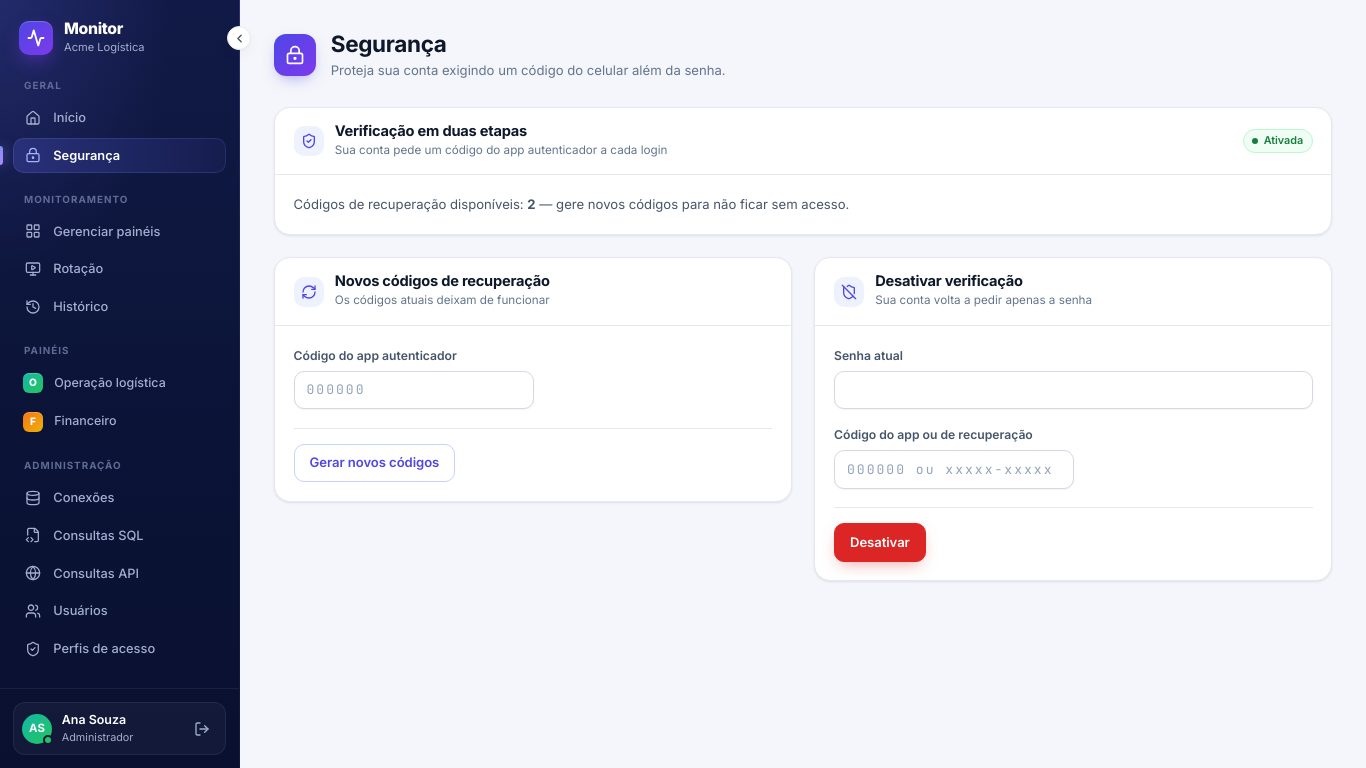
Test case: Segurança — verificação em duas etapas › gera novos códigos e desativa a verificação
Expected: the text "gere novos códigos para não ficar sem acesso" is shown, [536, 196, 849, 212]
Type "654321" into the field labelled "Código do app autenticador" at [414, 390], box [294, 371, 534, 409]
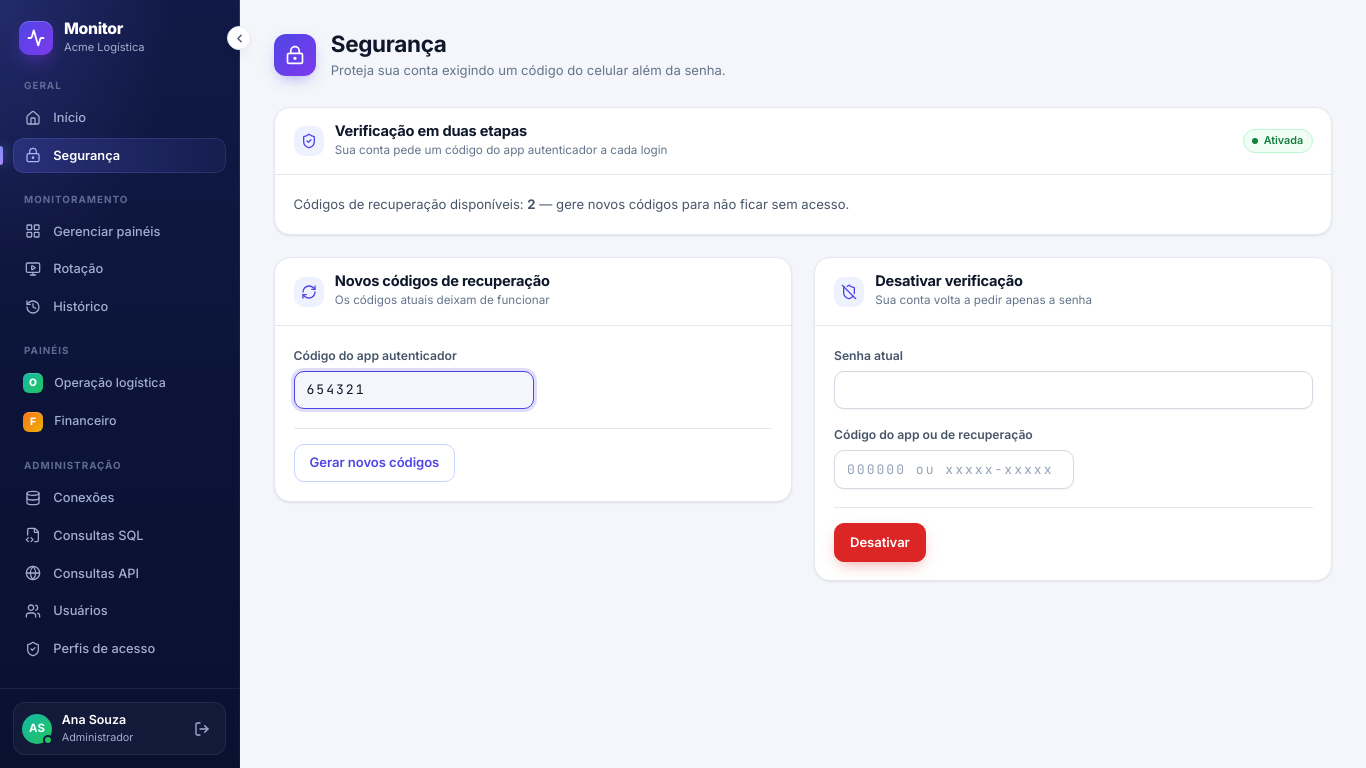
Click the button "Gerar novos códigos" at [374, 463], box [294, 444, 455, 482]
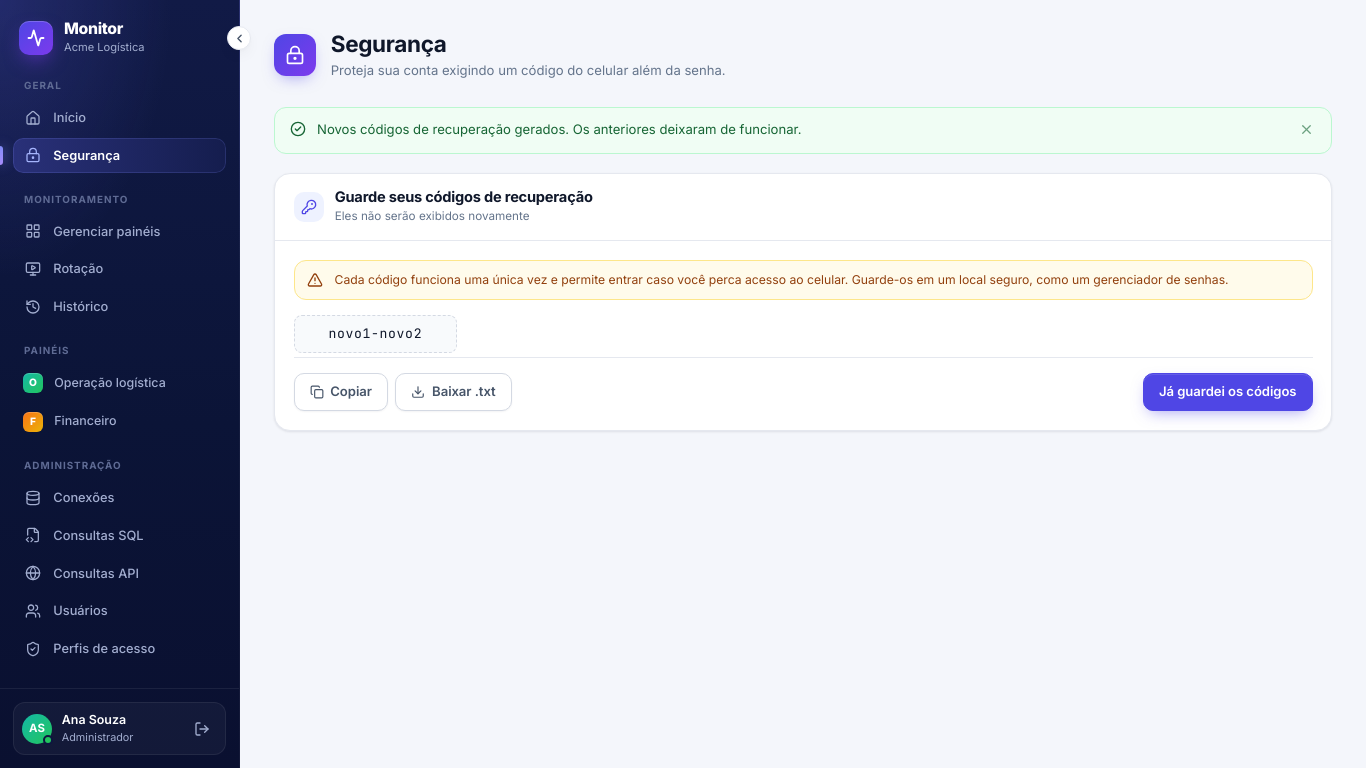
Expected: the list named "Códigos de recuperação" reads "novo1-novo2", [328, 325, 422, 342]
Expected: the text "Os anteriores deixaram de funcionar" is shown, [317, 121, 802, 137]
Click the button "Já guardei os códigos" at [1228, 392], box [1143, 373, 1312, 411]
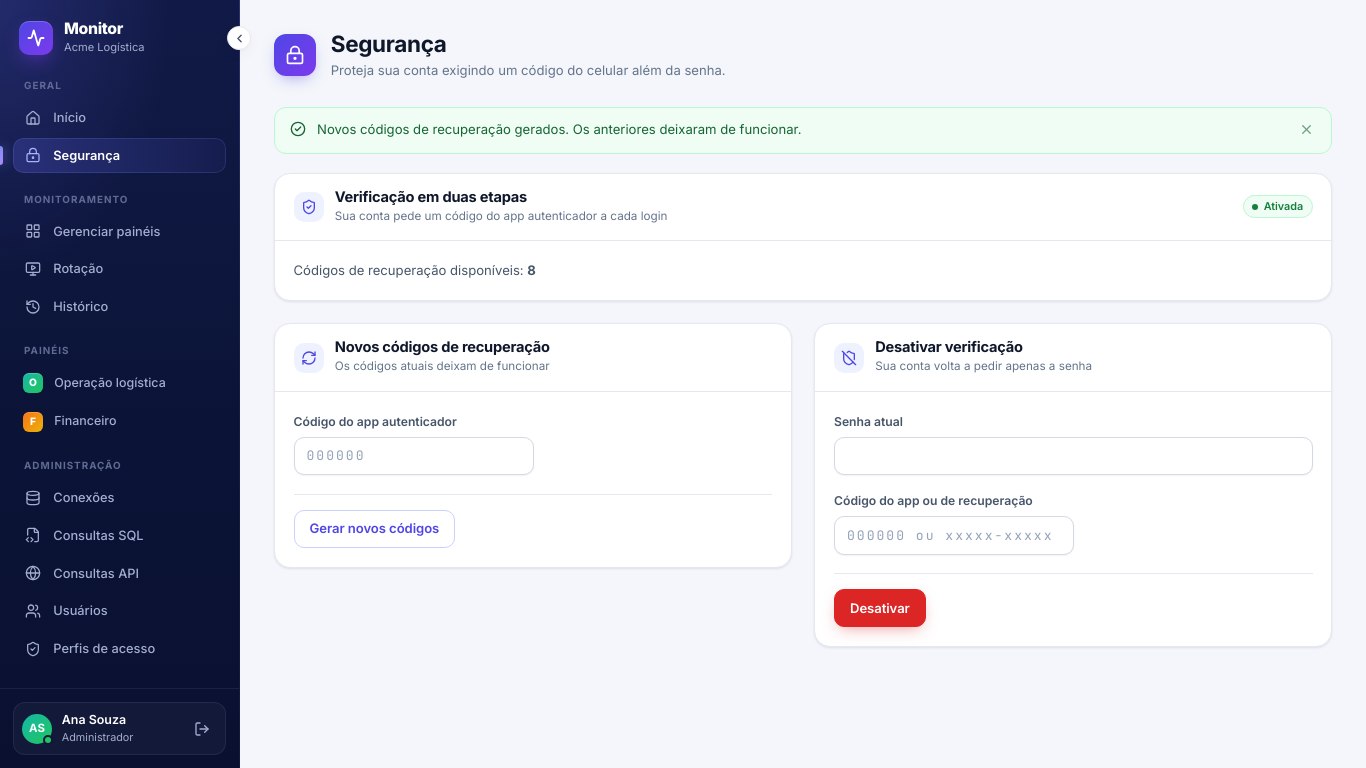
Type "segredo1" into the password field labelled "Senha atual" at [1073, 456], box [834, 437, 1312, 475]
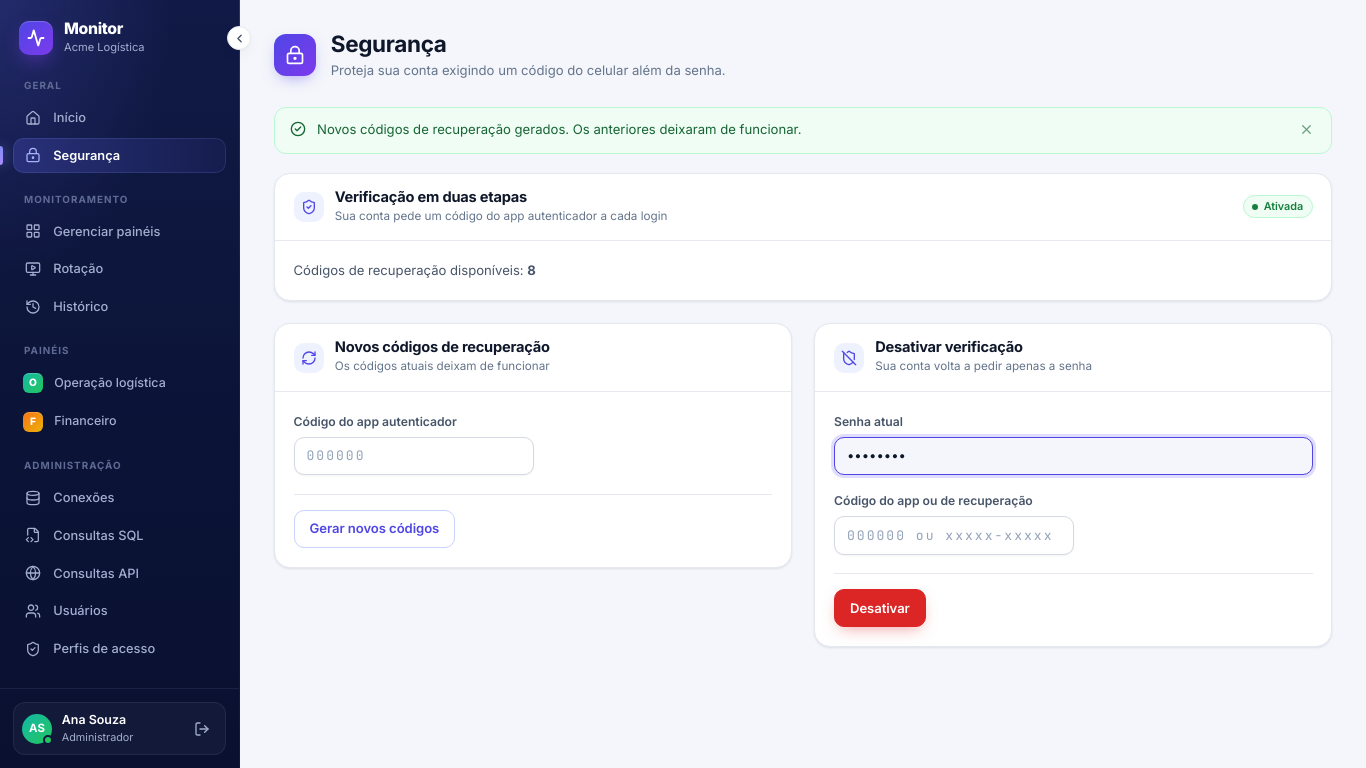
Type "abcde-fghij" into the field labelled "Código do app ou de recuperação" at [954, 535], box [834, 516, 1074, 554]
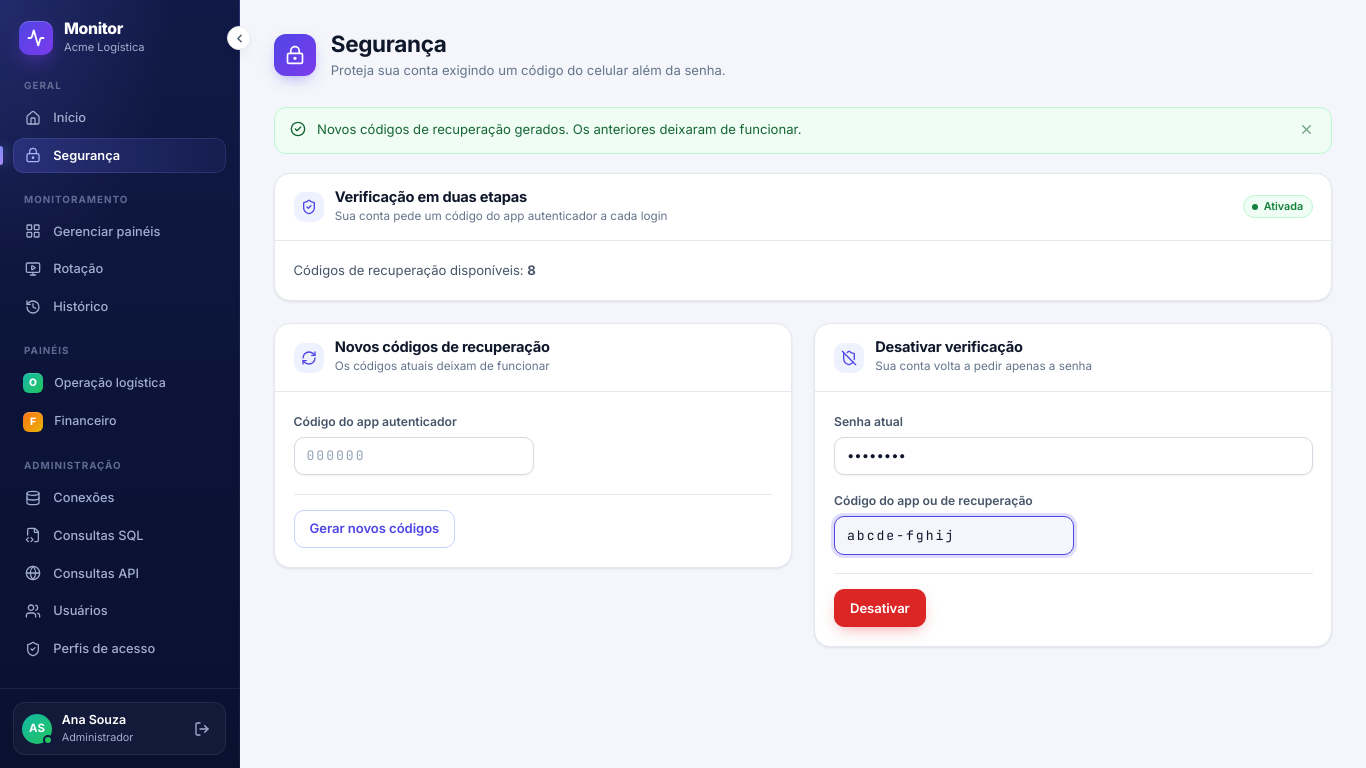
Click the button "Desativar" at [880, 608], box [834, 589, 926, 628]
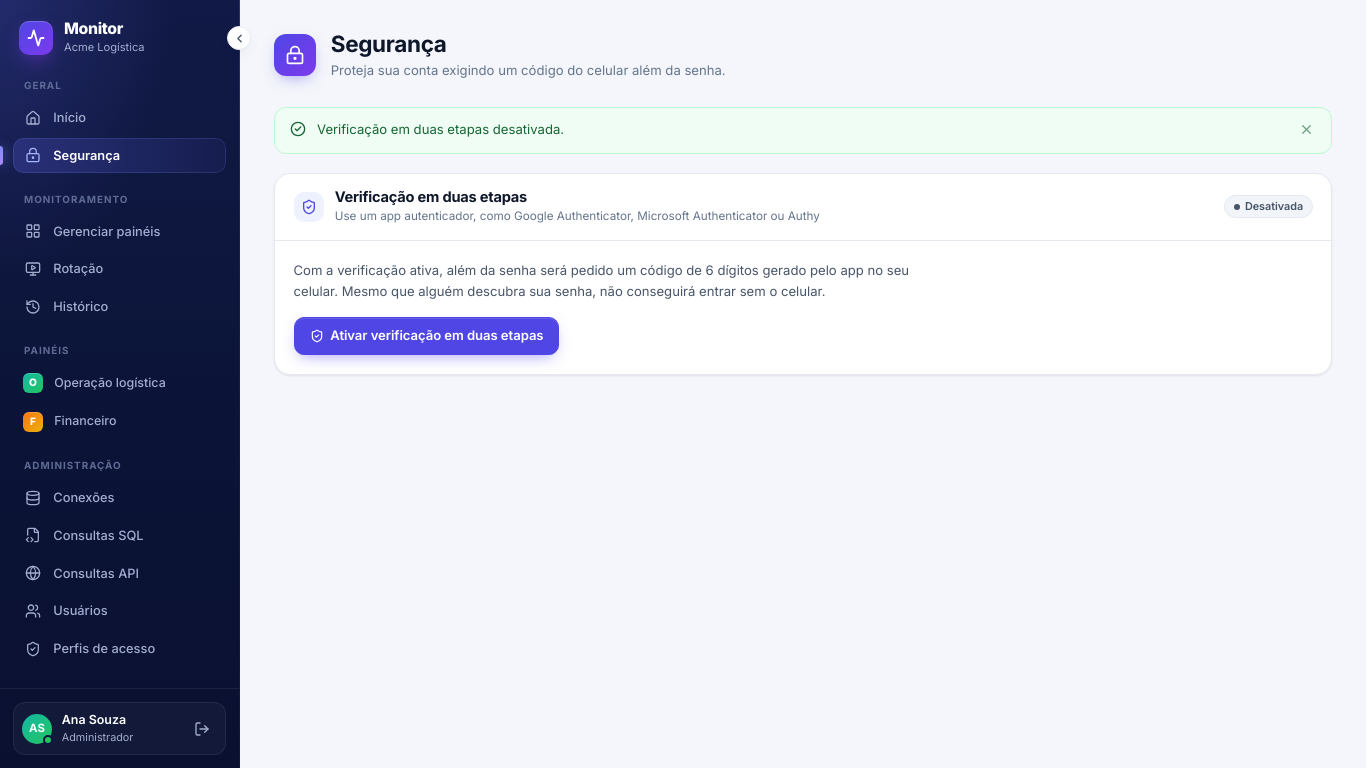
Expected: the text "Verificação em duas etapas desativada." is shown, [317, 121, 564, 137]
Expected: the text "Desativada" is shown, [1224, 195, 1312, 218]
